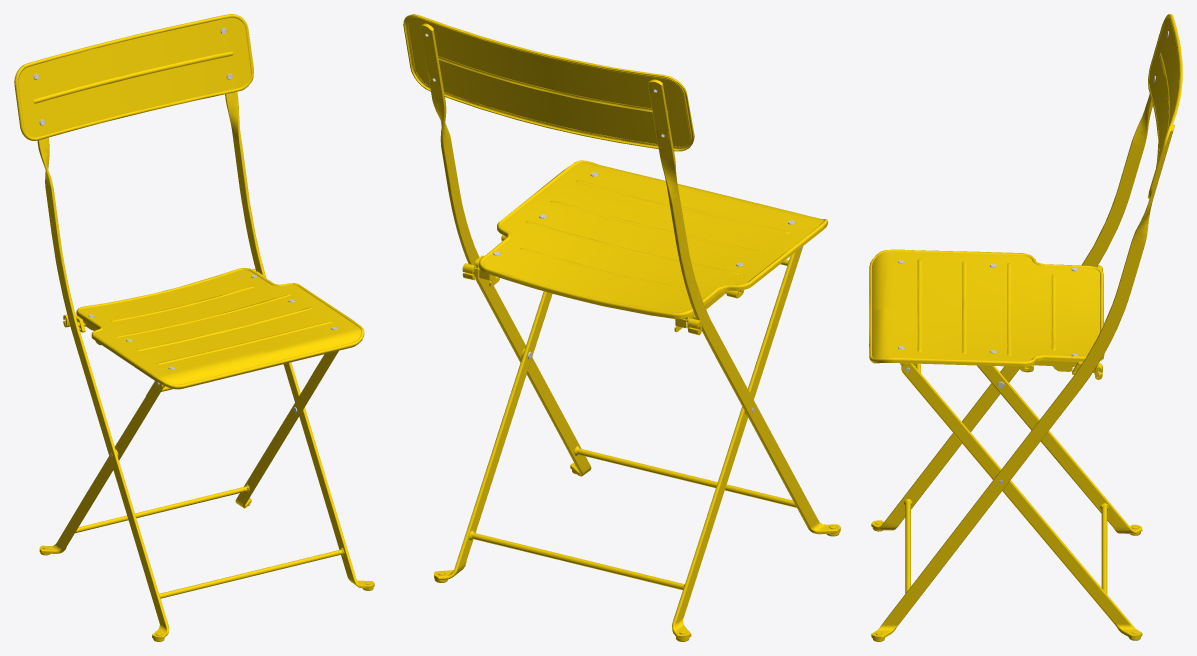
The model's file is sundso_krzeso_skadane_90575890.glb.
3 renders of one model, left to right at view 1: azimuth 30°, elevation 25°; view 2: azimuth 150°, elevation 25°; view 3: azimuth 270°, elevation 25°, orthographic. The views are drawn at different scales.
Visible parts, largest first — view 1: sundso_krzeso_skadane_90575890; view 2: sundso_krzeso_skadane_90575890; view 3: sundso_krzeso_skadane_90575890.
Boxes of the visible parts, x1,y1,x2,y2 form: sundso_krzeso_skadane_90575890: (14, 14, 374, 641); sundso_krzeso_skadane_90575890: (403, 14, 840, 641); sundso_krzeso_skadane_90575890: (869, 14, 1182, 641).
Bounding box in the file's own units: 0.4285 × 0.8375 × 0.4605.
1 material, 1 textured.
